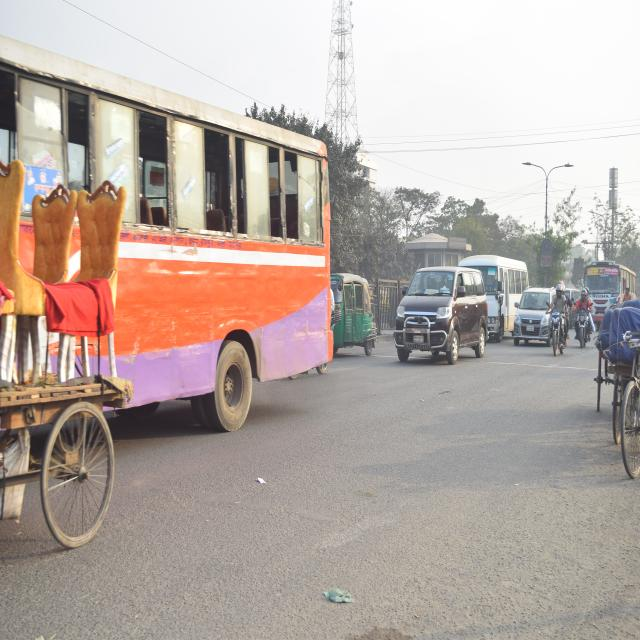bus: (0, 28, 336, 420), (469, 255, 527, 332), (584, 257, 636, 316)
car: (395, 262, 484, 363), (509, 281, 552, 347)
motorbike: (571, 294, 598, 352), (544, 301, 570, 359)
